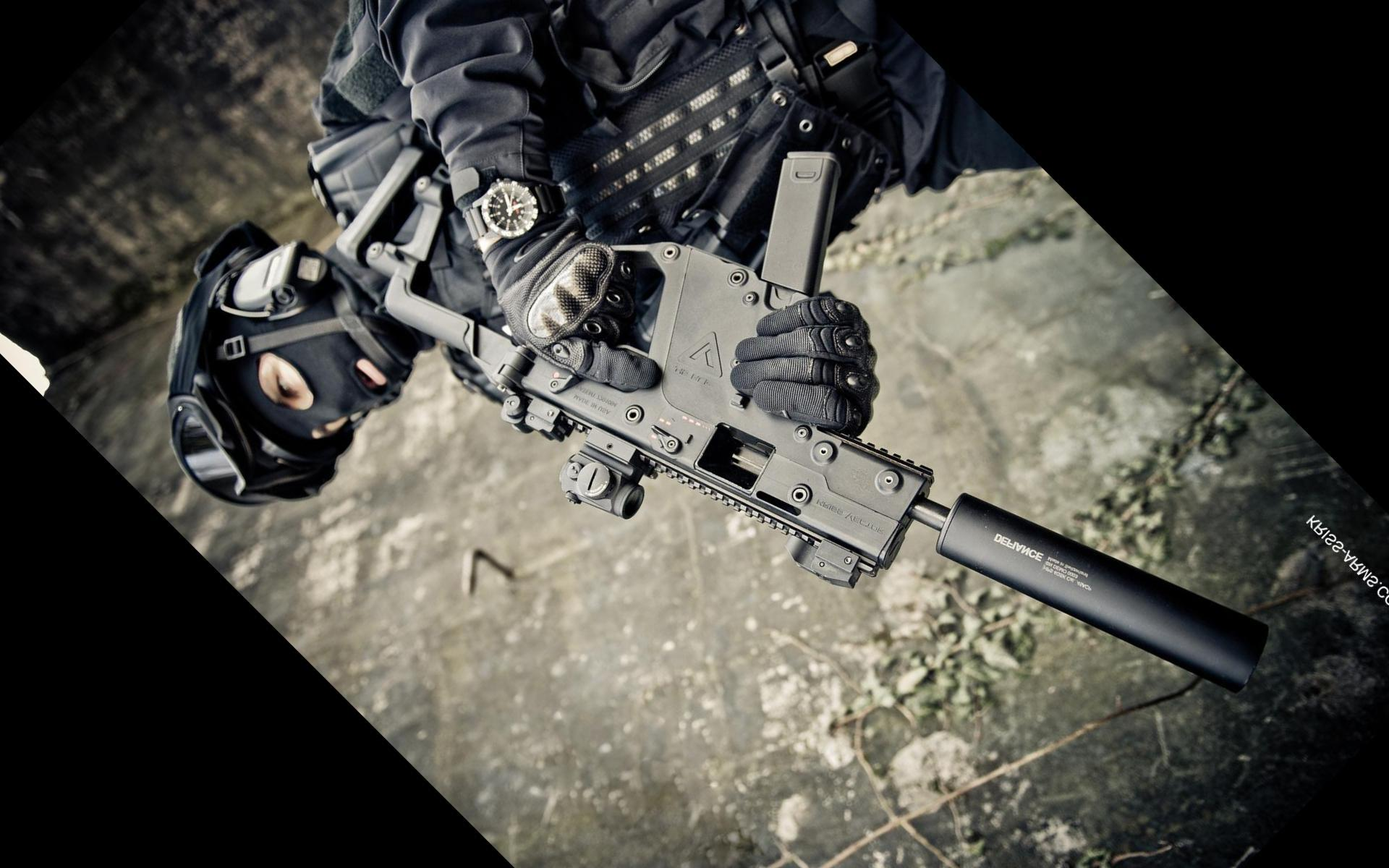larga: (335, 148, 1273, 693)
